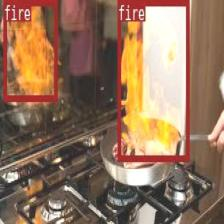fire: (116, 0, 188, 160), (2, 0, 56, 99)
